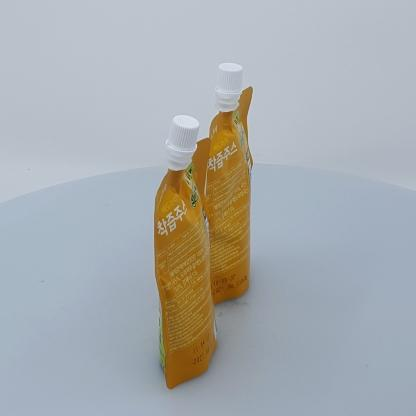-------------------100ML: (154, 115, 217, 390), (190, 62, 253, 305)
